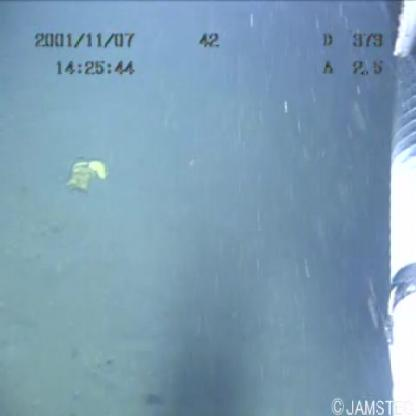Rov: (376, 1, 416, 416)
Rác: (68, 157, 108, 193)
